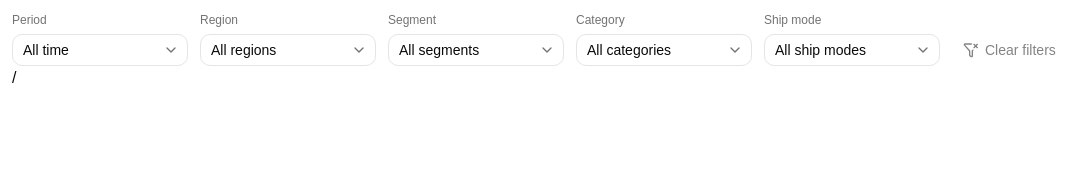
Test: FilterBar › applies a filter from the allowlist
Click the dropdown labelled "ship mode": (852, 50) x1=764 y1=34 x2=940 y2=66
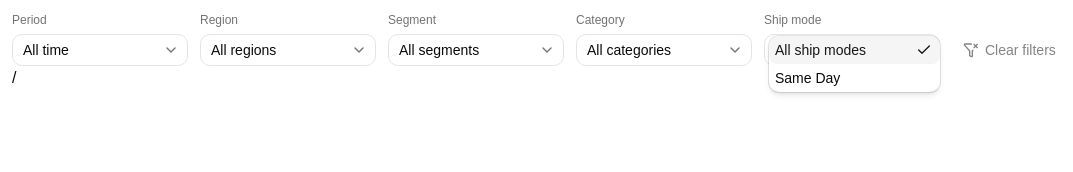
Click the option "Same Day": (808, 78) x1=775 y1=70 x2=840 y2=86
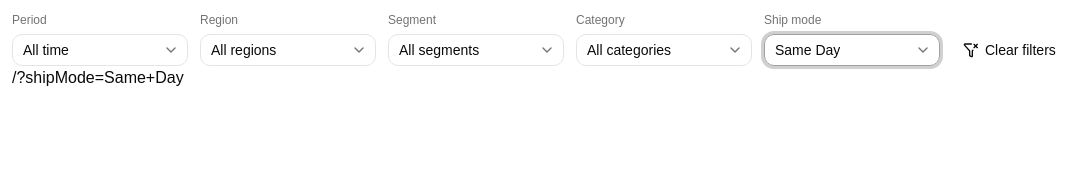
Expected: the text with test id "location" shows "shipMode=Same+Day", x1=12 y1=69 x2=184 y2=86
